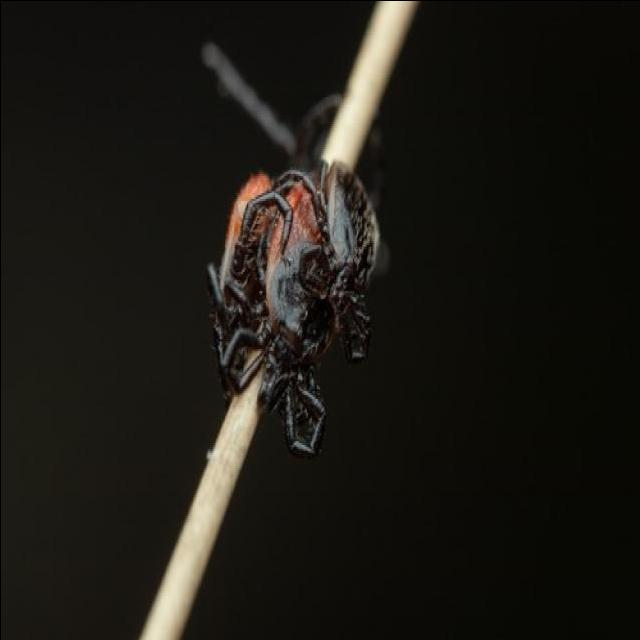Ixodes Ricinus-F: (221, 186, 330, 459)
Ixodes Ricinus-M: (270, 160, 378, 365)
